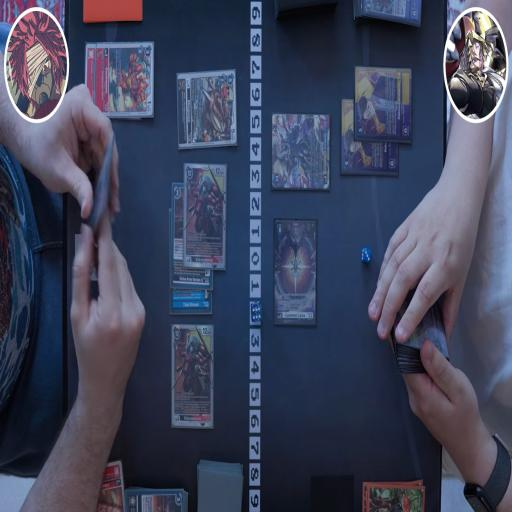card: (272, 219, 320, 327), (177, 67, 237, 151), (94, 40, 154, 123), (169, 181, 214, 291), (183, 163, 228, 272), (270, 117, 332, 196), (392, 278, 449, 363), (340, 98, 400, 174), (171, 325, 215, 428), (353, 68, 412, 142), (359, 0, 423, 25), (84, 44, 104, 120), (95, 460, 124, 512), (124, 488, 186, 512), (170, 282, 212, 317)
